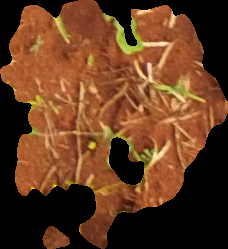soil: (2, 2, 227, 249)
